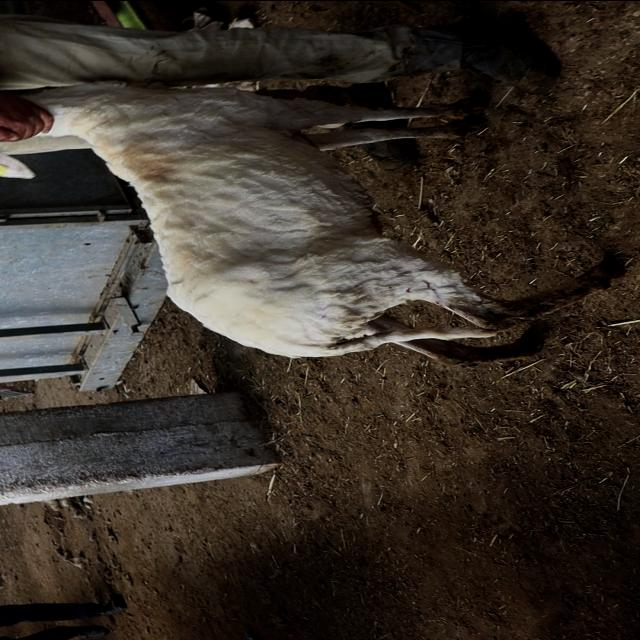Score_4: (29, 81, 624, 364)
